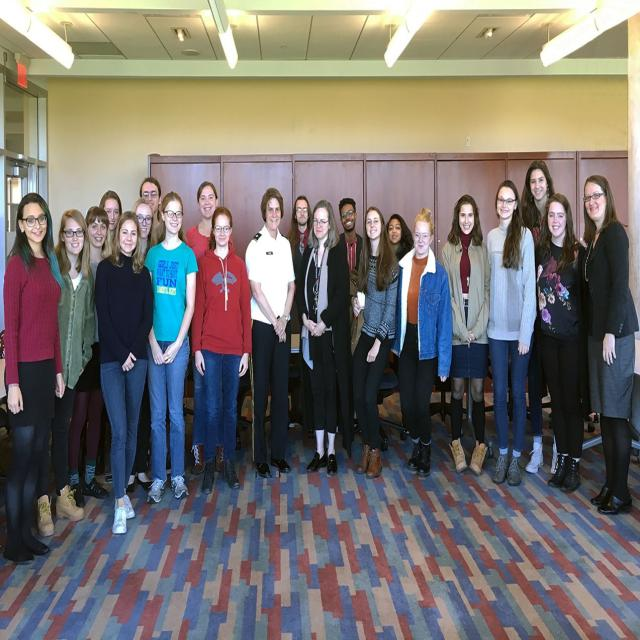body: (0, 189, 66, 565), (574, 172, 640, 518), (32, 205, 95, 542), (92, 209, 154, 536), (189, 205, 254, 498), (138, 188, 198, 504), (390, 206, 454, 477), (484, 179, 538, 486), (534, 192, 588, 494), (295, 197, 352, 478), (244, 186, 298, 479), (184, 180, 235, 476), (346, 205, 400, 482), (440, 192, 492, 478), (519, 159, 559, 476), (69, 205, 110, 509), (126, 197, 155, 496), (328, 195, 364, 435), (286, 193, 314, 298), (385, 212, 415, 264), (98, 188, 123, 244), (139, 176, 162, 230)
